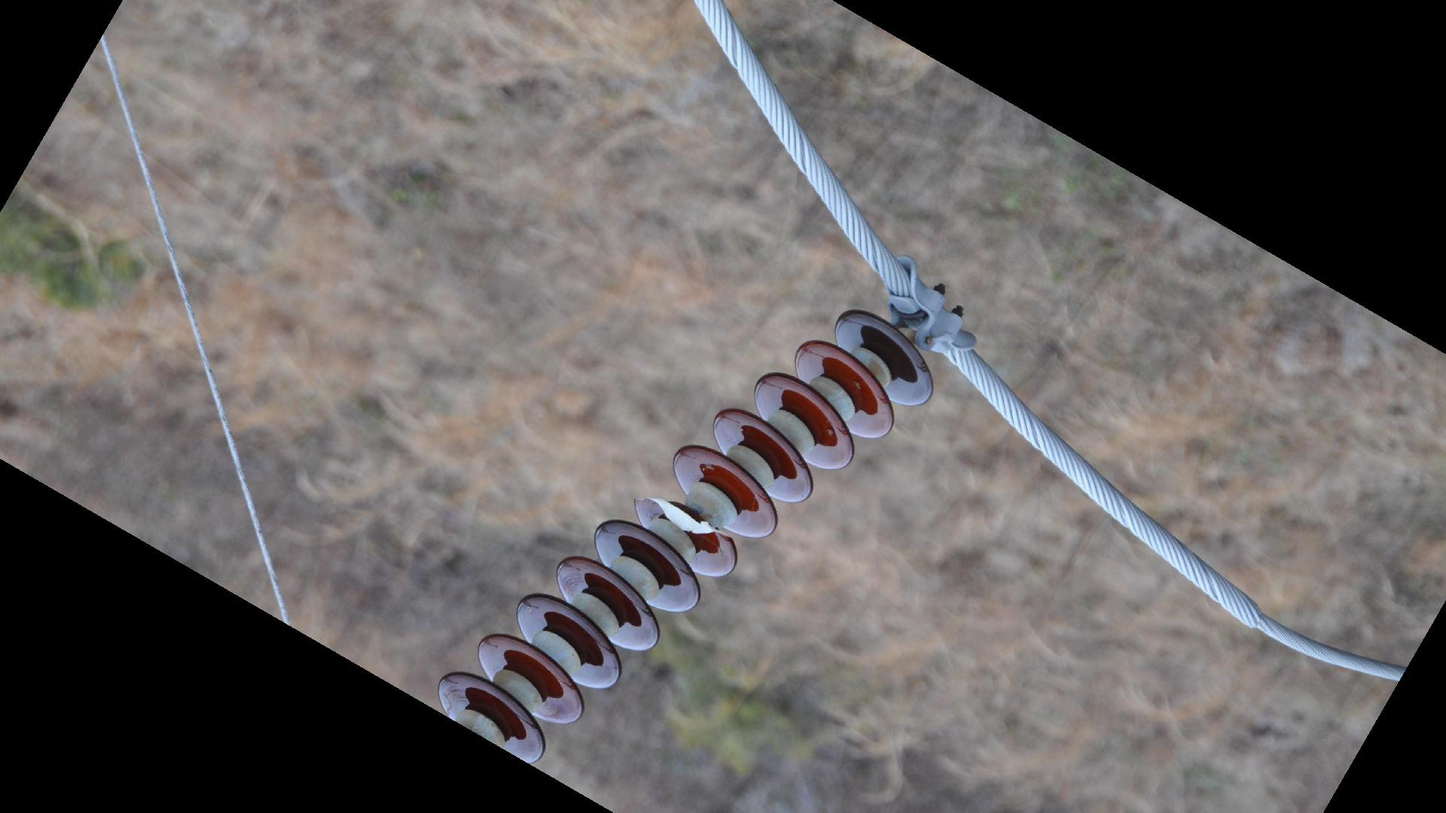insulator: (431, 301, 943, 773)
insulator_breakage: (627, 490, 732, 544)
